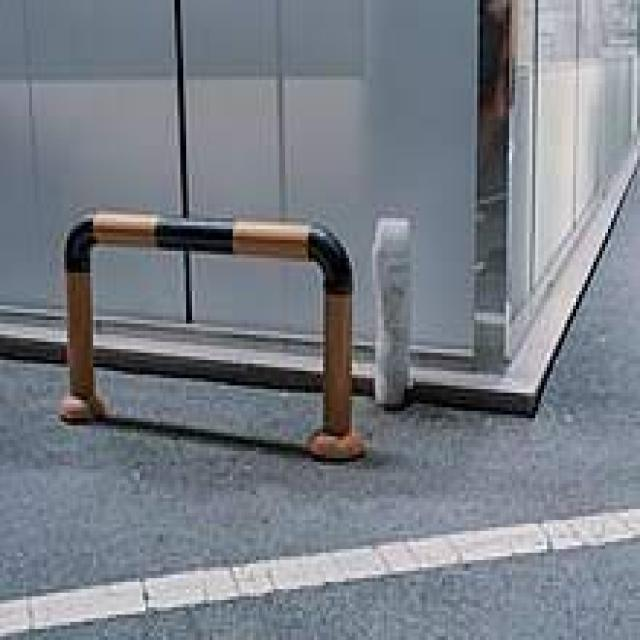bollard: (44, 204, 373, 475)
